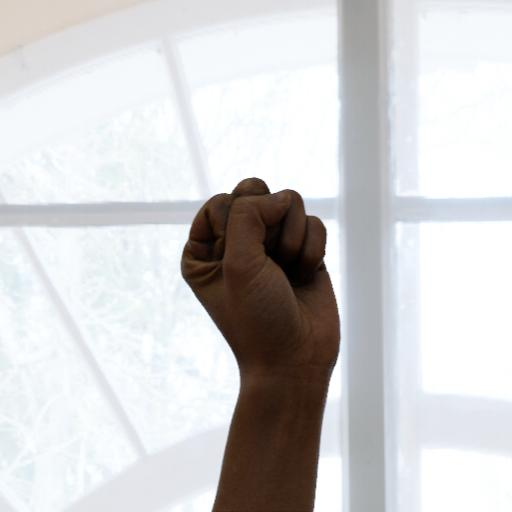S: (170, 163, 354, 379)
